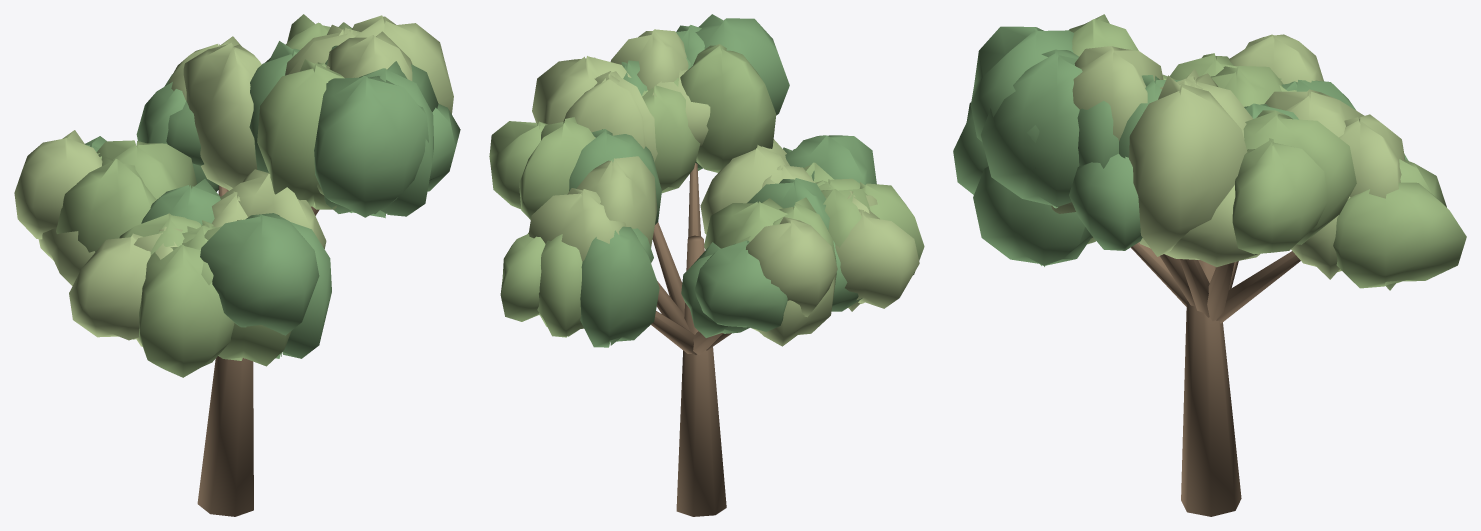
The model's file is broadleaf.glb.
3 renders of one model, left to right at view 1: azimuth 30°, elevation 25°; view 2: azimuth 150°, elevation 25°; view 3: azimuth 270°, elevation 25°, orthographic. The views are drawn at different scales.
Parts seen in each view (by area): view 1: Leaf_0, Leaf_2, Leaf_1, Bark; view 2: Leaf_2, Leaf_1, Leaf_0, Bark; view 3: Leaf_0, Leaf_2, Leaf_1, Bark.
Boxes of the visible parts, x1,y1,x2,y2 form: Leaf_0: [85, 41, 460, 358]; Leaf_2: [14, 15, 453, 346]; Leaf_1: [56, 14, 352, 377]; Bark: [197, 185, 319, 516]; Leaf_2: [528, 29, 919, 346]; Leaf_1: [489, 44, 924, 337]; Leaf_0: [569, 14, 876, 347]; Bark: [651, 163, 731, 516]; Leaf_0: [953, 26, 1408, 266]; Leaf_2: [1051, 34, 1404, 279]; Leaf_1: [1069, 14, 1466, 290]; Bark: [1131, 242, 1300, 516].
Bounding box in the file's own units: 5.51 × 6.28 × 5.74.
